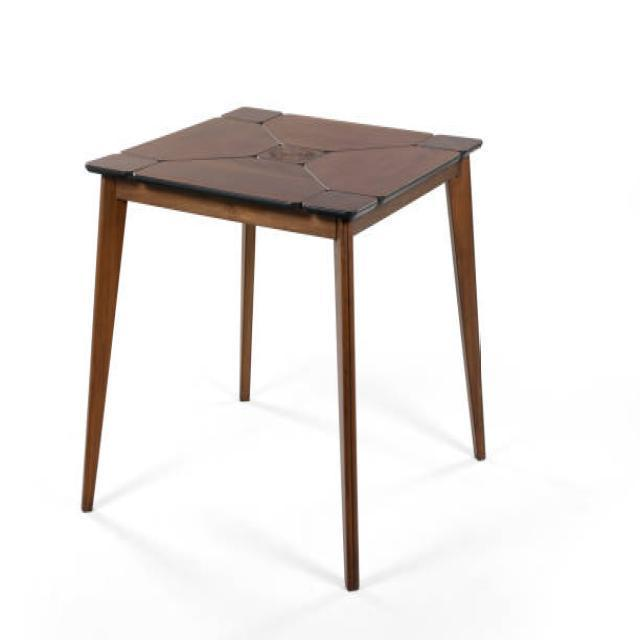table: (80, 104, 487, 592)
